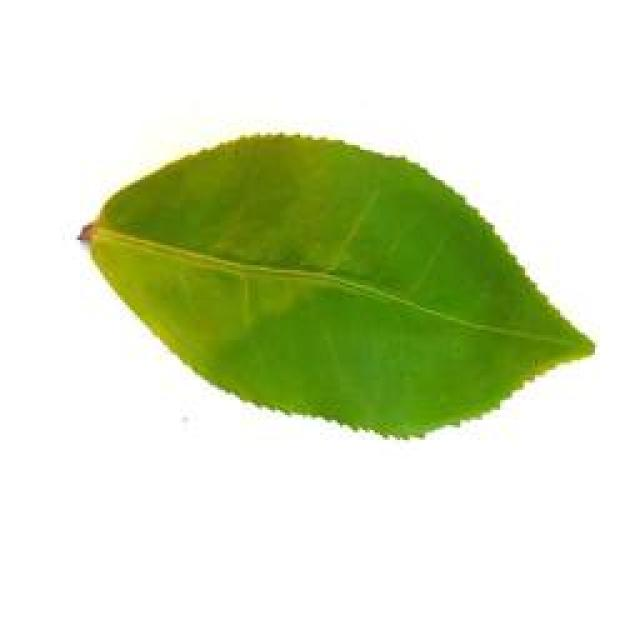Healthy: (43, 120, 607, 447)
